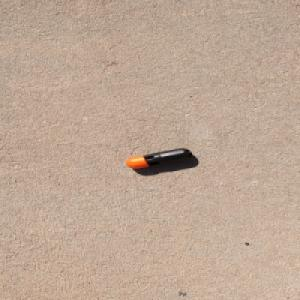PlasticPart: (124, 147, 193, 169)
